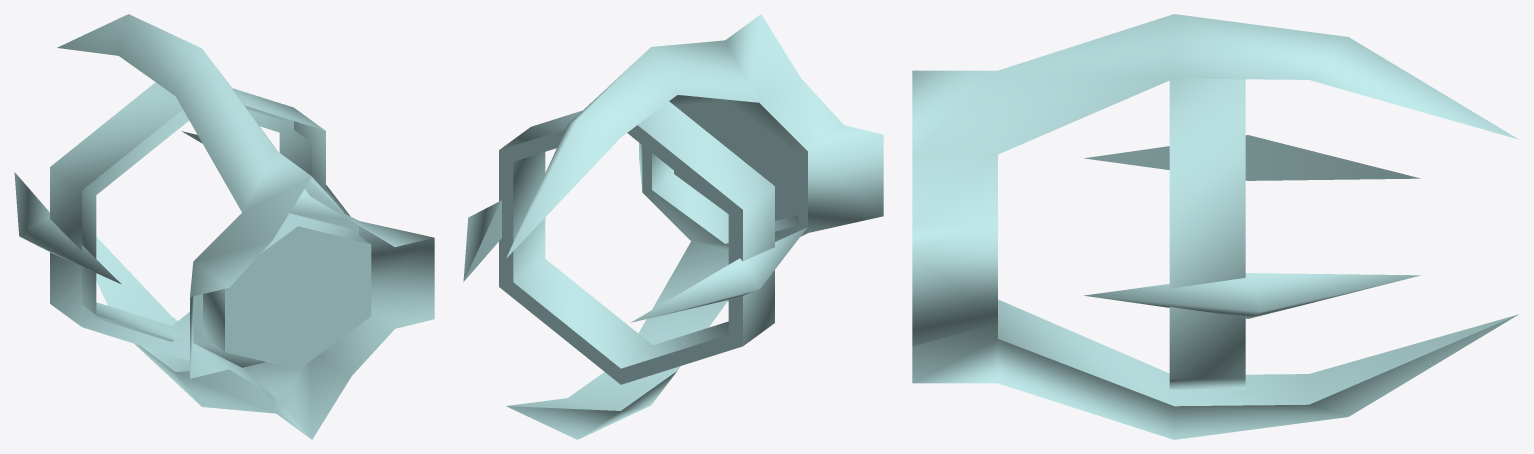
The picture shows the model from 3 angles, left to right: view 1: azimuth 30°, elevation 25°; view 2: azimuth 150°, elevation 25°; view 3: azimuth 270°, elevation 25°; orthographic projection. The views are drawn at different scales.
Parts seen in each view (by area): view 1: Object55; view 2: Object55; view 3: Object55.
Boxes of the visible parts, x1,y1,x2,y2 form: Object55: (14,14,434,439); Object55: (463,14,883,439); Object55: (912,14,1518,439).
Bounding box in the file's own units: 8720 × 10234 × 13217.
